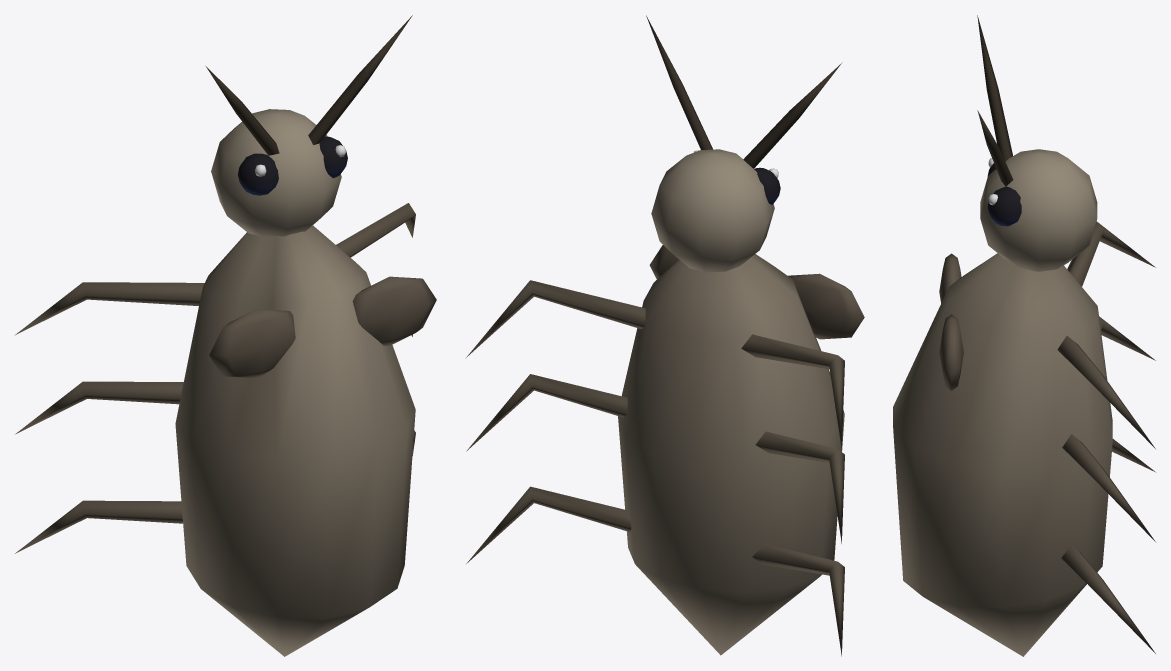
Rendered from Fuyushaku_Female.fbx.
3 renders of one model, left to right at view 1: azimuth 30°, elevation 25°; view 2: azimuth 150°, elevation 25°; view 3: azimuth 270°, elevation 25°, orthographic. The views are drawn at different scales.
Parts seen in each view (by area): view 1: Fuyushaku_Female; view 2: Fuyushaku_Female; view 3: Fuyushaku_Female.
Part boxes in pixels (x1,y1,x2,y2): Fuyushaku_Female: (14,15,436,656); Fuyushaku_Female: (465,15,864,656); Fuyushaku_Female: (893,15,1155,656).
Size of the model in its own units: 0.42 by 0.64 by 0.257.
